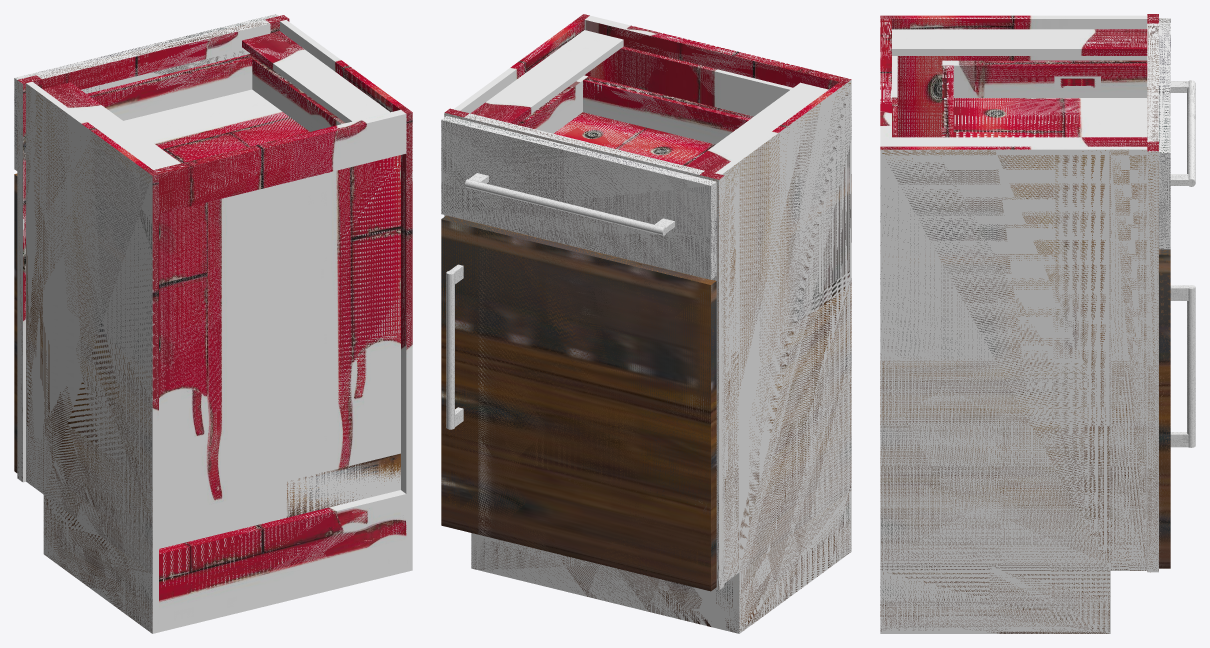
The picture shows the model from 3 angles, left to right: view 1: azimuth 30°, elevation 25°; view 2: azimuth 150°, elevation 25°; view 3: azimuth 270°, elevation 25°; orthographic projection. The views are drawn at different scales.
Visible parts, largest first — view 1: mesh5_mesh5-geometry, mesh8_mesh8-geometry, mesh13_mesh13-geometry, mesh4_mesh4-geometry, mesh20_mesh20-geometry, mesh7_mesh7-geometry, mesh9_mesh9-geometry, mesh11_mesh11-geometry, mesh18_mesh18-geometry, mesh6_mesh6-geometry, mesh15_mesh15-geometry, mesh3_mesh3-geometry (+5 smaller); view 2: mesh26_mesh26-geometry, mesh8_mesh8-geometry, mesh22_mesh22-geometry, mesh14_mesh14-geometry, mesh9_mesh9-geometry, mesh7_mesh7-geometry, mesh5_mesh5-geometry, mesh18_mesh18-geometry, mesh4_mesh4-geometry, mesh15_mesh15-geometry, mesh3_mesh3-geometry, mesh20_mesh20-geometry (+5 smaller); view 3: mesh11_mesh11-geometry, mesh10_mesh10-geometry, mesh12_mesh12-geometry, mesh8_mesh8-geometry, mesh20_mesh20-geometry, mesh17_mesh17-geometry, mesh16_mesh16-geometry, mesh3_mesh3-geometry, mesh26_mesh26-geometry, mesh22_mesh22-geometry, mesh15_mesh15-geometry, mesh23_mesh23-geometry (+8 smaller).
Boxes of the visible parts, x1,y1,x2,y2 form: mesh5_mesh5-geometry: [159, 155, 400, 548]; mesh8_mesh8-geometry: [43, 94, 158, 573]; mesh13_mesh13-geometry: [159, 490, 406, 632]; mesh4_mesh4-geometry: [153, 110, 406, 213]; mesh20_mesh20-geometry: [124, 89, 309, 163]; mesh7_mesh7-geometry: [26, 81, 49, 494]; mesh9_mesh9-geometry: [43, 495, 158, 633]; mesh11_mesh11-geometry: [297, 32, 412, 512]; mesh18_mesh18-geometry: [87, 55, 252, 120]; mesh6_mesh6-geometry: [37, 19, 270, 89]; mesh15_mesh15-geometry: [242, 31, 389, 122]; mesh3_mesh3-geometry: [17, 15, 289, 482]; mesh26_mesh26-geometry: [441, 215, 716, 591]; mesh8_mesh8-geometry: [733, 78, 851, 571]; mesh22_mesh22-geometry: [441, 116, 716, 279]; mesh14_mesh14-geometry: [477, 534, 732, 632]; mesh9_mesh9-geometry: [733, 490, 851, 633]; mesh7_mesh7-geometry: [715, 160, 739, 582]; mesh5_mesh5-geometry: [584, 46, 792, 116]; mesh18_mesh18-geometry: [583, 76, 753, 144]; mesh4_mesh4-geometry: [584, 15, 844, 89]; mesh15_mesh15-geometry: [470, 30, 623, 124]; mesh3_mesh3-geometry: [444, 108, 724, 590]; mesh20_mesh20-geometry: [553, 112, 715, 165]; mesh11_mesh11-geometry: [880, 146, 1110, 570]; mesh10_mesh10-geometry: [1110, 146, 1147, 570]; mesh12_mesh12-geometry: [880, 571, 1110, 633]; mesh8_mesh8-geometry: [880, 15, 1110, 137]; mesh20_mesh20-geometry: [953, 98, 1147, 137]; mesh17_mesh17-geometry: [942, 60, 1147, 97]; mesh16_mesh16-geometry: [892, 29, 1147, 55]; mesh3_mesh3-geometry: [1147, 14, 1158, 572]; mesh26_mesh26-geometry: [1159, 249, 1170, 568]; mesh22_mesh22-geometry: [1159, 18, 1170, 249]; mesh15_mesh15-geometry: [892, 137, 1147, 146]; mesh23_mesh23-geometry: [1187, 80, 1195, 447].
Bounding box in the file's own units: 0.4642 × 0.7626 × 0.4504.
